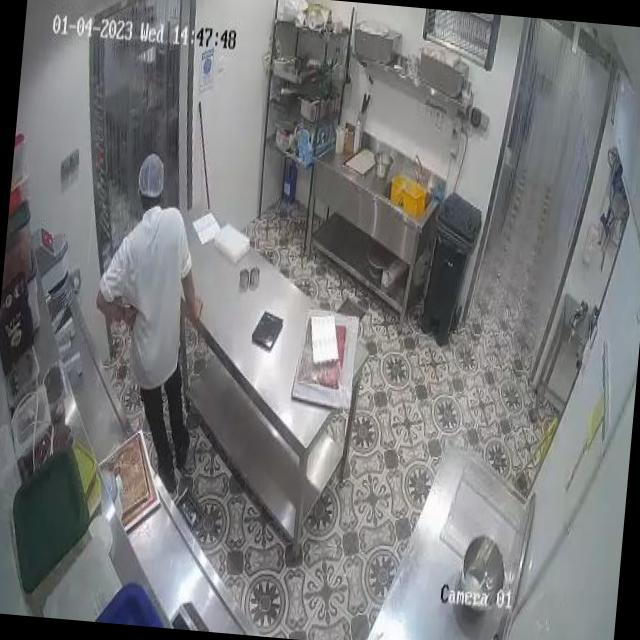hairnet: (137, 152, 166, 198)
